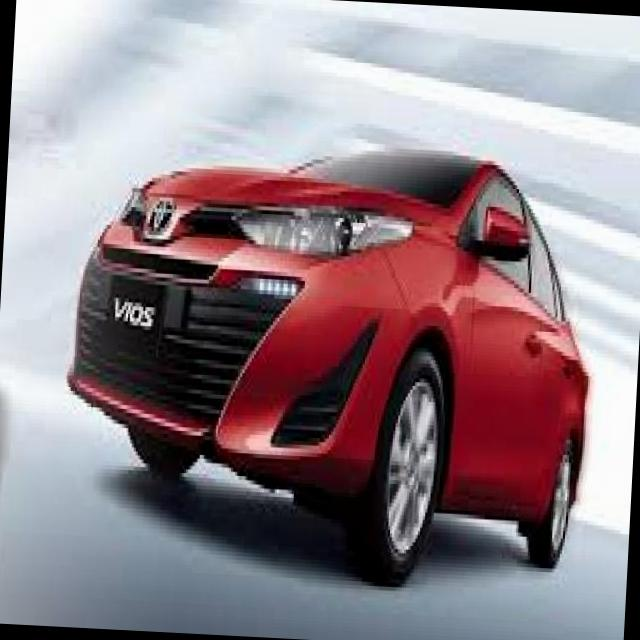ToyotaVios: (55, 131, 602, 596)
